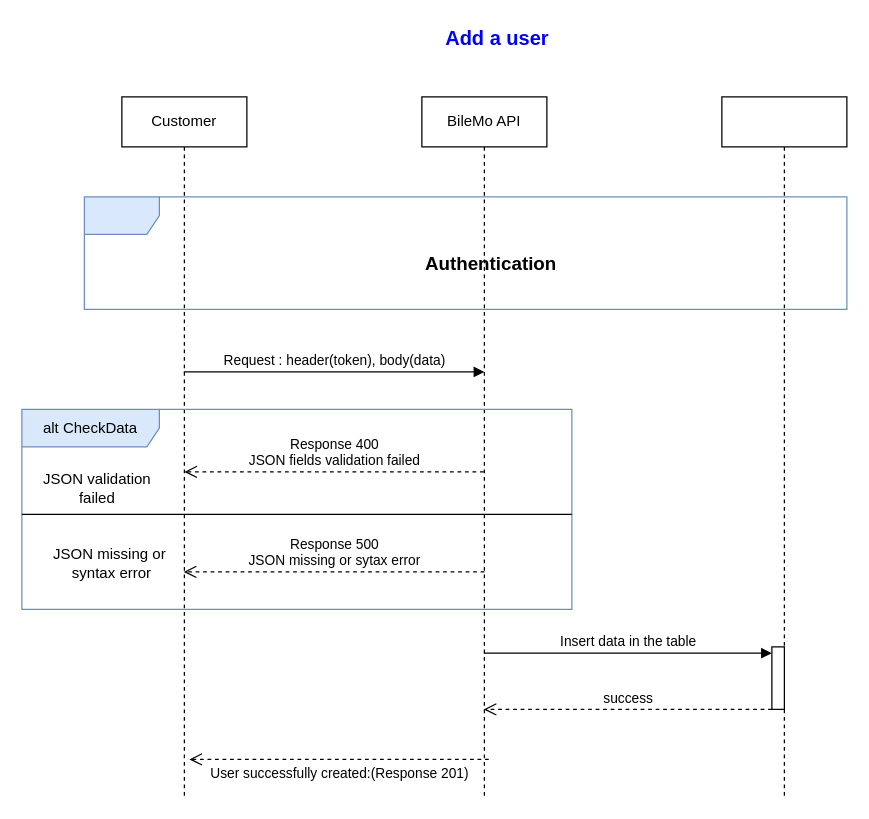
The diagram is 869 pixels wide and 819 high, and some of its shapes have lost their labels. Each missing label, with the box of its shape:
B.D.D: (721, 96, 847, 797)
Ref: (83, 196, 847, 309)
